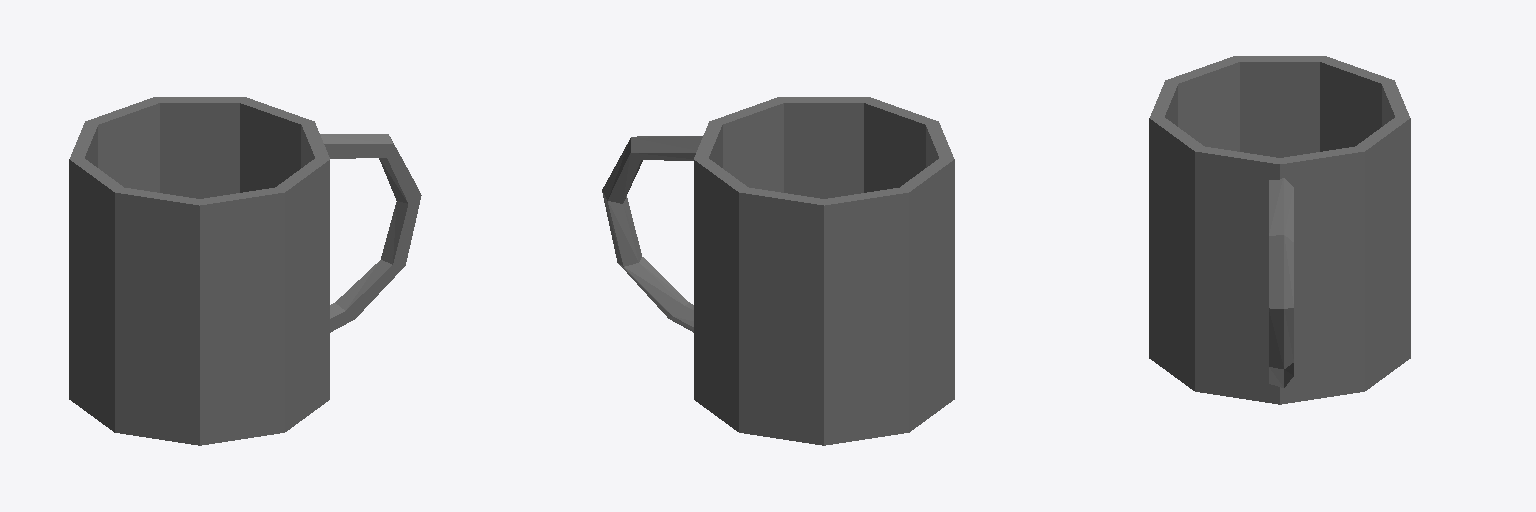
Rendered from coffeecup.obj.
The picture shows the model from 3 angles: view 1: azimuth 30°, elevation 25°; view 2: azimuth 150°, elevation 25°; view 3: azimuth 270°, elevation 25°; orthographic projection.
Visible parts, largest first — view 1: coffeeCup6; view 2: coffeeCup6; view 3: coffeeCup6.
Boxes of the visible parts, x1,y1,x2,y2 form: coffeeCup6: [69, 97, 421, 445]; coffeeCup6: [602, 97, 954, 445]; coffeeCup6: [1149, 56, 1410, 404].
Bounding box in the file's own units: 87.08 × 60.96 × 60.03.